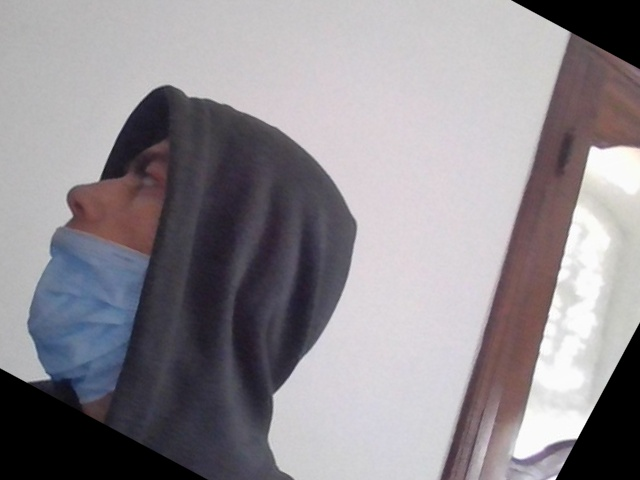mask_weared_incorrect: (17, 136, 183, 413)
